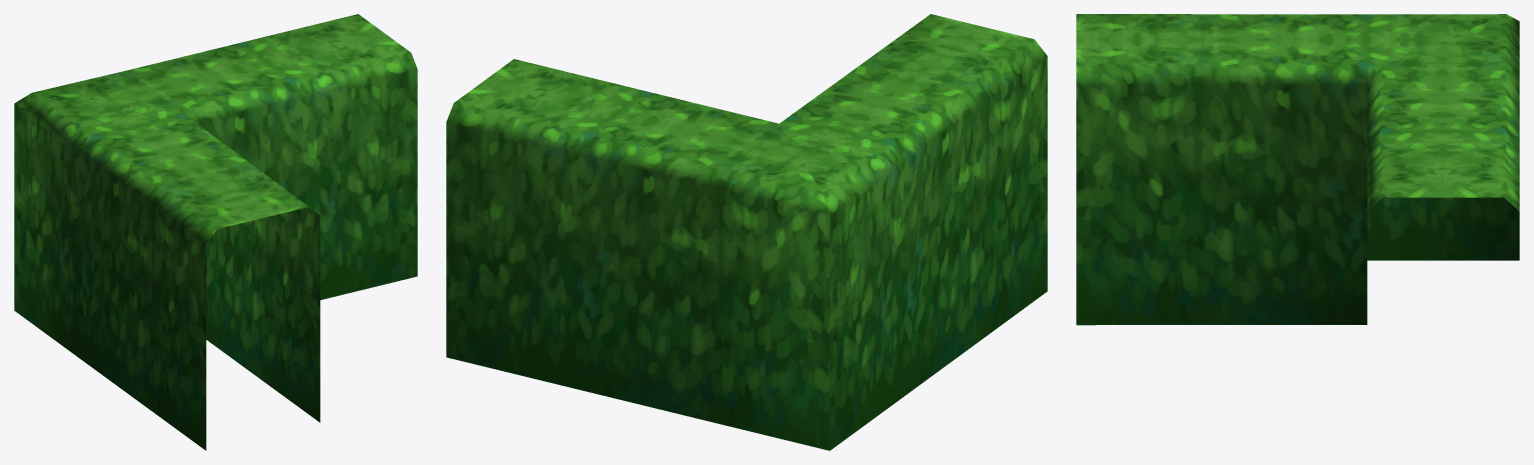
File: Hedge_fence_corner.fbx
3 renders of one model, left to right at view 1: azimuth 30°, elevation 25°; view 2: azimuth 150°, elevation 25°; view 3: azimuth 270°, elevation 25°, orthographic. The views are drawn at different scales.
Visible parts, largest first — view 1: Hedge_fence_corner; view 2: Hedge_fence_corner; view 3: Hedge_fence_corner.
Boxes of the visible parts, x1=… form: Hedge_fence_corner: x1=14, y1=14, x2=417, y2=450; Hedge_fence_corner: x1=446, y1=14, x2=1047, y2=450; Hedge_fence_corner: x1=1076, y1=14, x2=1519, y2=325.
Bounding box in the file's own units: 185 × 115 × 182.
